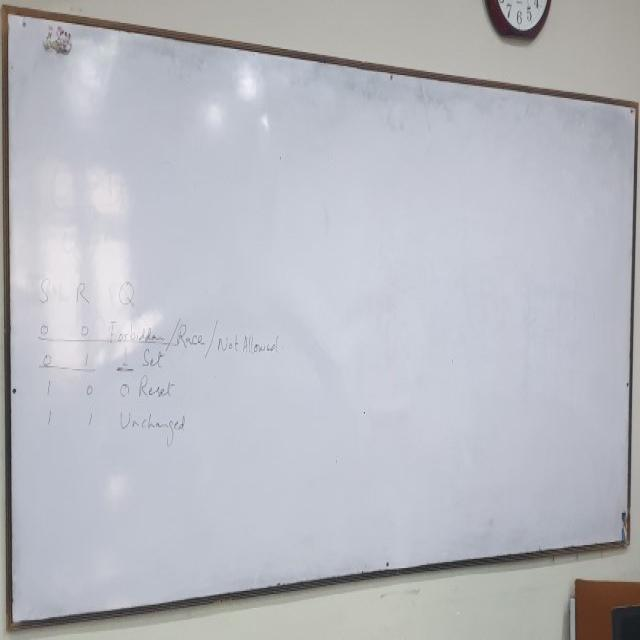White-board: (7, 5, 637, 629)
